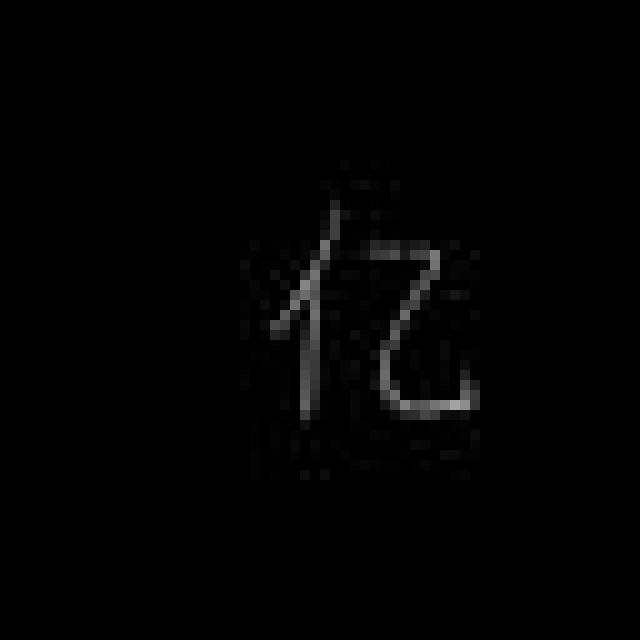100000 -a hundred thousand-: (257, 186, 485, 437)
